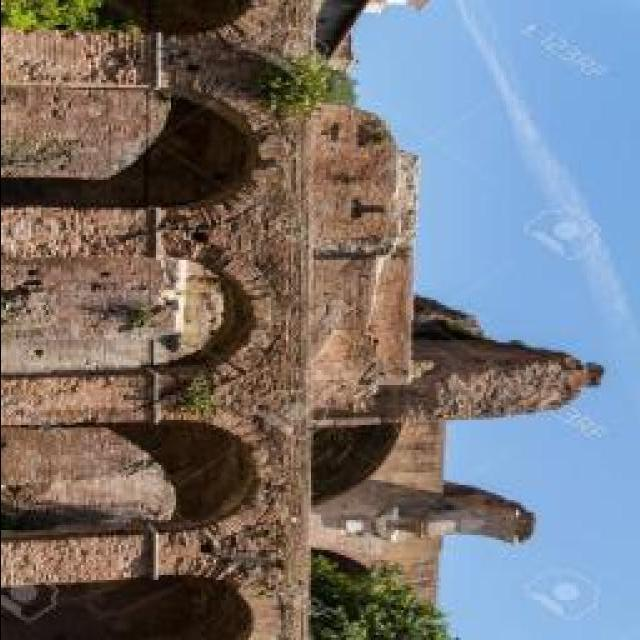crack: (1, 80, 162, 189)
dampness: (173, 130, 296, 253), (0, 197, 170, 264), (2, 24, 155, 91), (221, 1, 322, 68), (7, 541, 126, 588)
vegetation: (308, 550, 457, 639), (260, 48, 345, 121), (2, 0, 113, 35), (180, 375, 218, 416), (127, 305, 153, 329)
